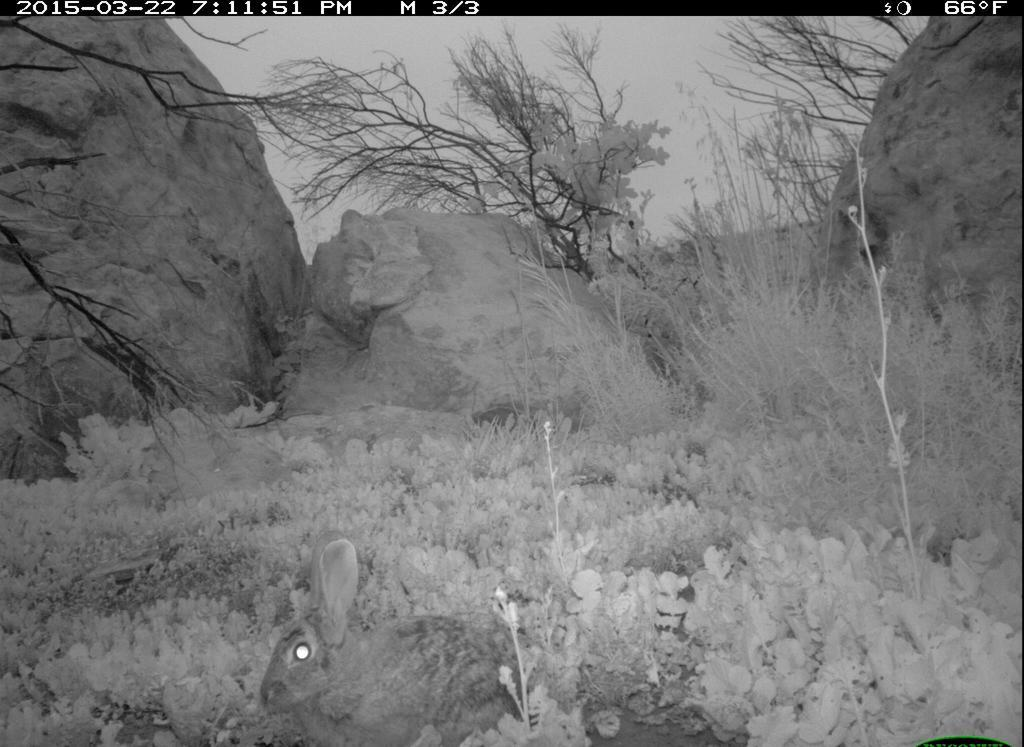rabbit: (240, 526, 569, 747)
